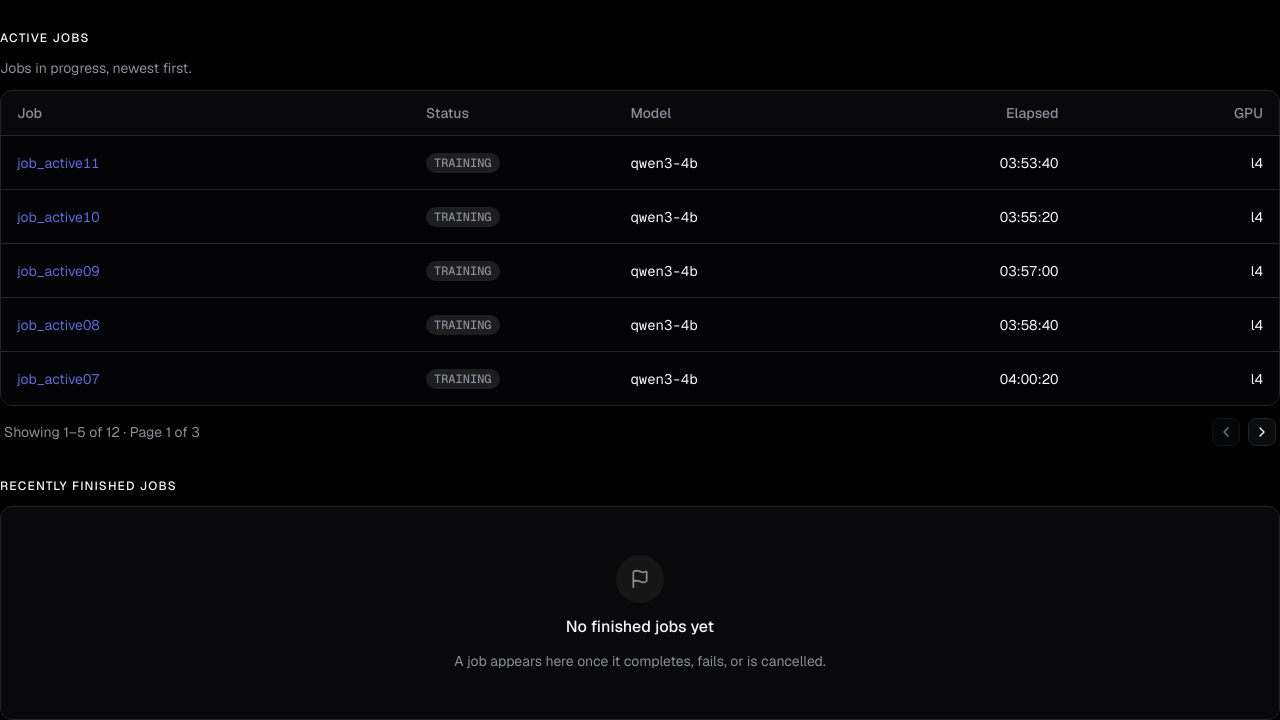
DashboardView › paginates active jobs at 5 per page
(page scrolled)
Expected: the text with test id "active-jobs-pagination-info" reads "Showing 1–5 of 12 · Page 1 of 3", [4,422,200,442]
Expected: the link "job_active11" is shown, [17,154,100,172]
Click the button named "Next page".
click(1262, 432)  # box [1248,418,1276,446]
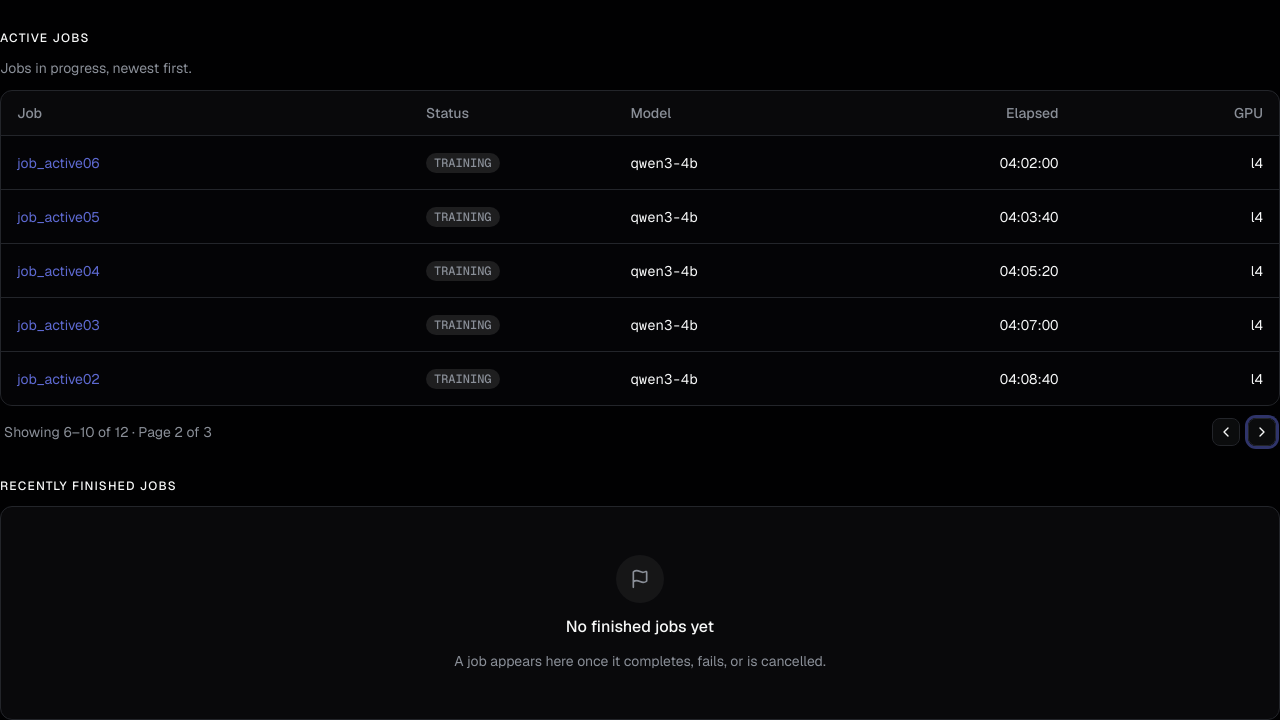
Expected: the text with test id "active-jobs-pagination-info" reads "Showing 6–10 of 12 · Page 2 of 3", [4,422,212,442]
Expected: the link "job_active06" is shown, [17,154,100,172]
Expected: the link "job_active02" is shown, [17,370,100,388]
Page 3: last 2
Click the button named "Next page".
click(1262, 432)  # box [1248,418,1276,446]
(page scrolled)
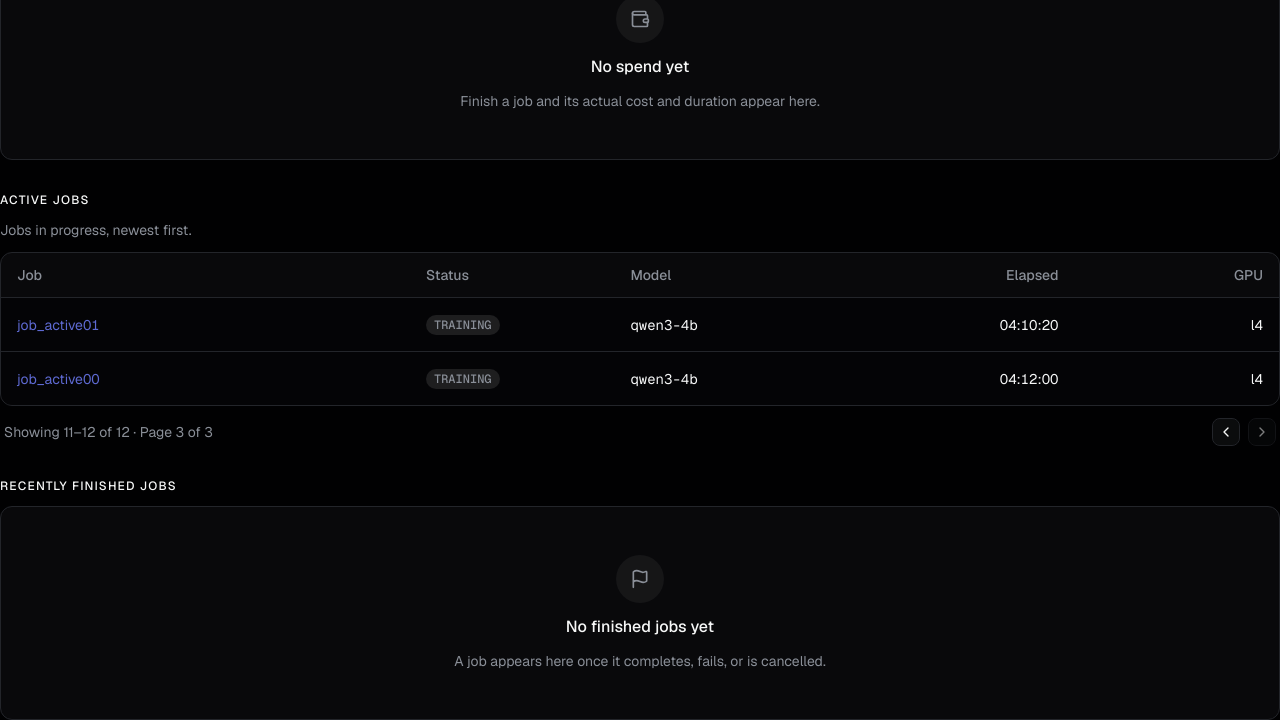
Expected: the text with test id "active-jobs-pagination-info" reads "Showing 11–12 of 12 · Page 3 of 3", [4,422,213,442]
Expected: the link "job_active01" is shown, [17,316,100,334]
Expected: the link "job_active00" is shown, [17,370,100,388]
Back to page 2
Click the button named "Previous page".
click(1226, 432)  # box [1212,418,1240,446]
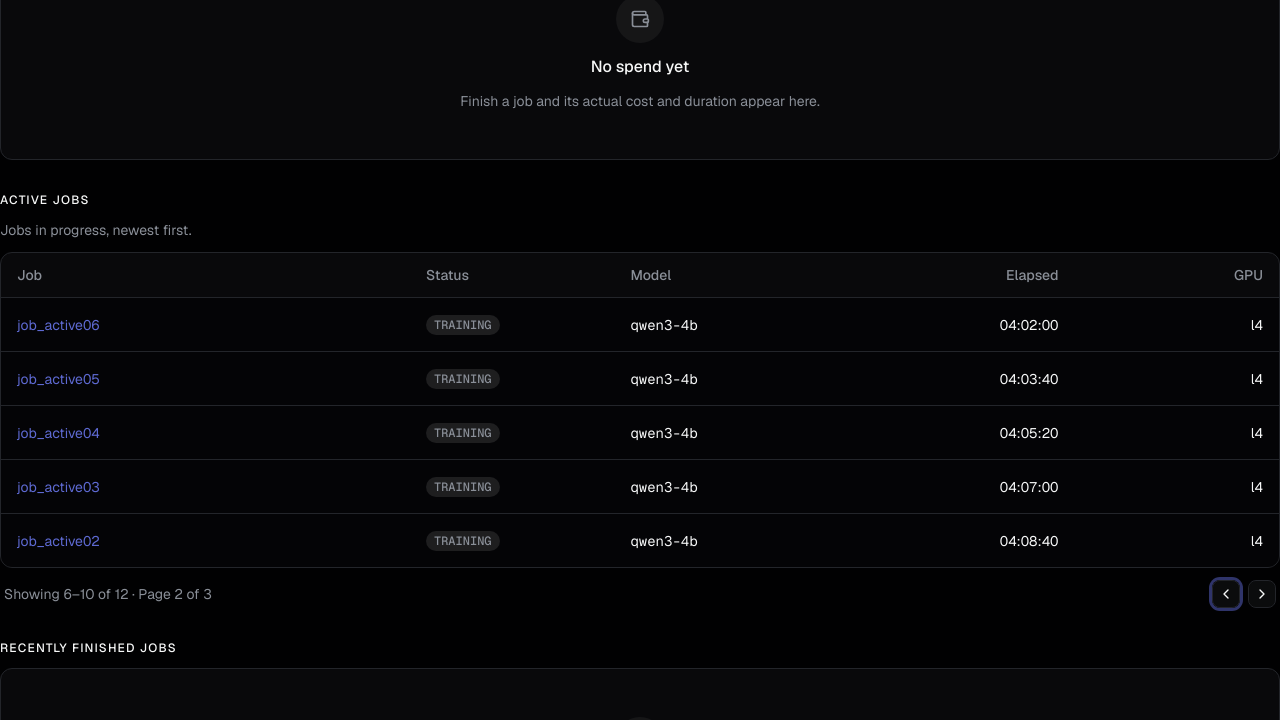
Expected: the text with test id "active-jobs-pagination-info" reads "Showing 6–10 of 12 · Page 2 of 3", [4,584,212,604]
